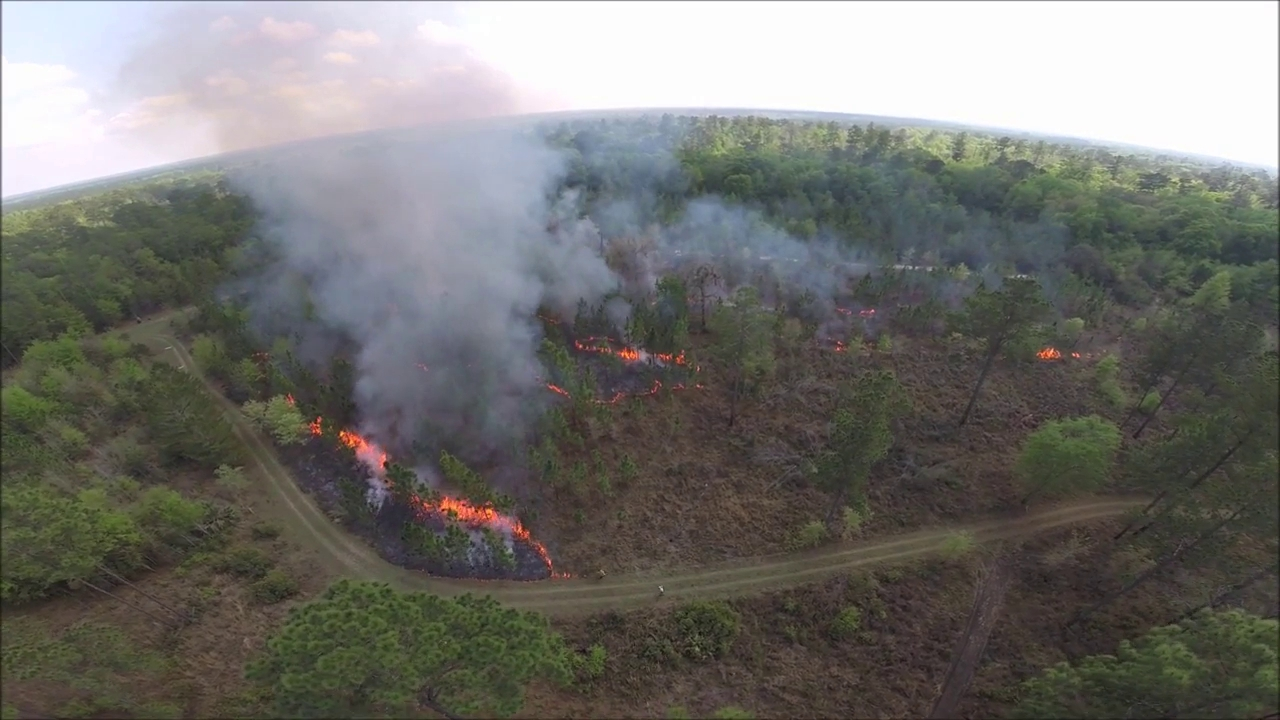forest_fire: (407, 492, 567, 577), (337, 429, 392, 488), (574, 337, 688, 364), (593, 379, 663, 403), (1035, 346, 1082, 360), (545, 382, 569, 397), (671, 382, 703, 390), (309, 419, 323, 435)
